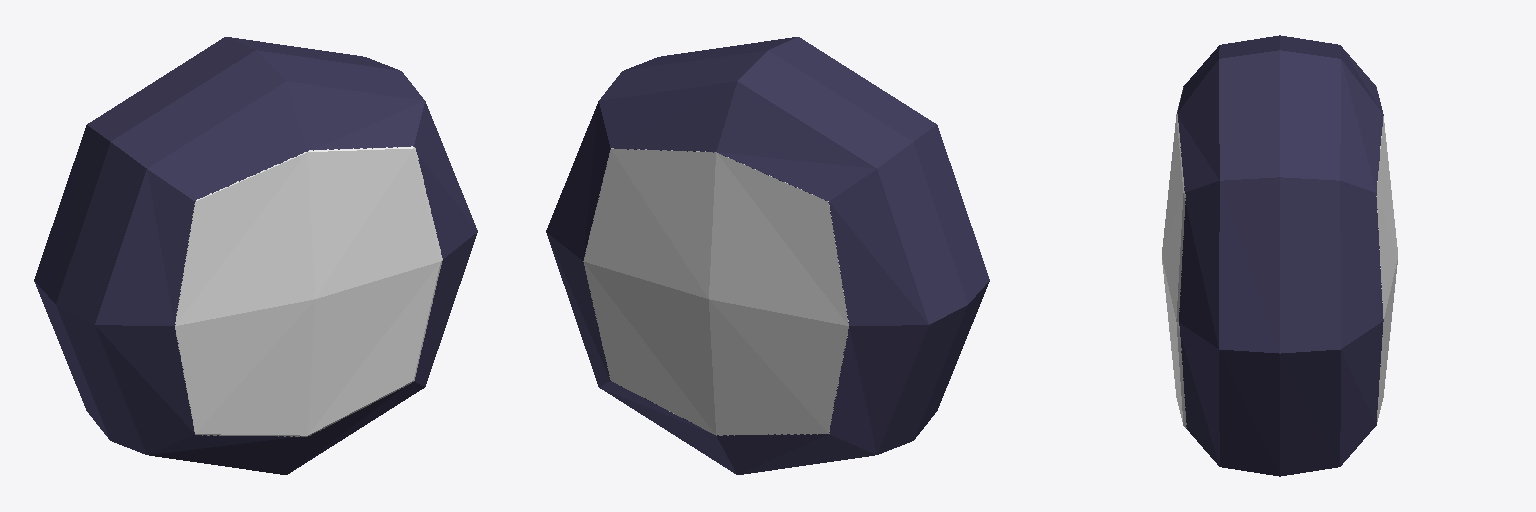
3 views of the same model, side by side, from view 1: azimuth 30°, elevation 25°; view 2: azimuth 150°, elevation 25°; view 3: azimuth 270°, elevation 25° (orthographic).
Parts seen in each view (by area): view 1: Plane.004_Plane.003; view 2: Plane.004_Plane.003; view 3: Plane.004_Plane.003.
Part boxes in pixels (bbox=[...]): Plane.004_Plane.003: bbox=[34, 37, 477, 474]; Plane.004_Plane.003: bbox=[546, 37, 989, 474]; Plane.004_Plane.003: bbox=[1162, 35, 1397, 476].
Size of the model in its own units: 1.04 by 1.02 by 0.5308.
Materials: 1 (1 with a texture image).